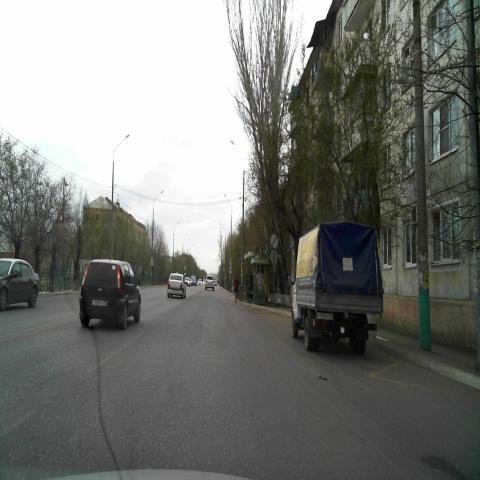3_31: (270, 232, 278, 249)
